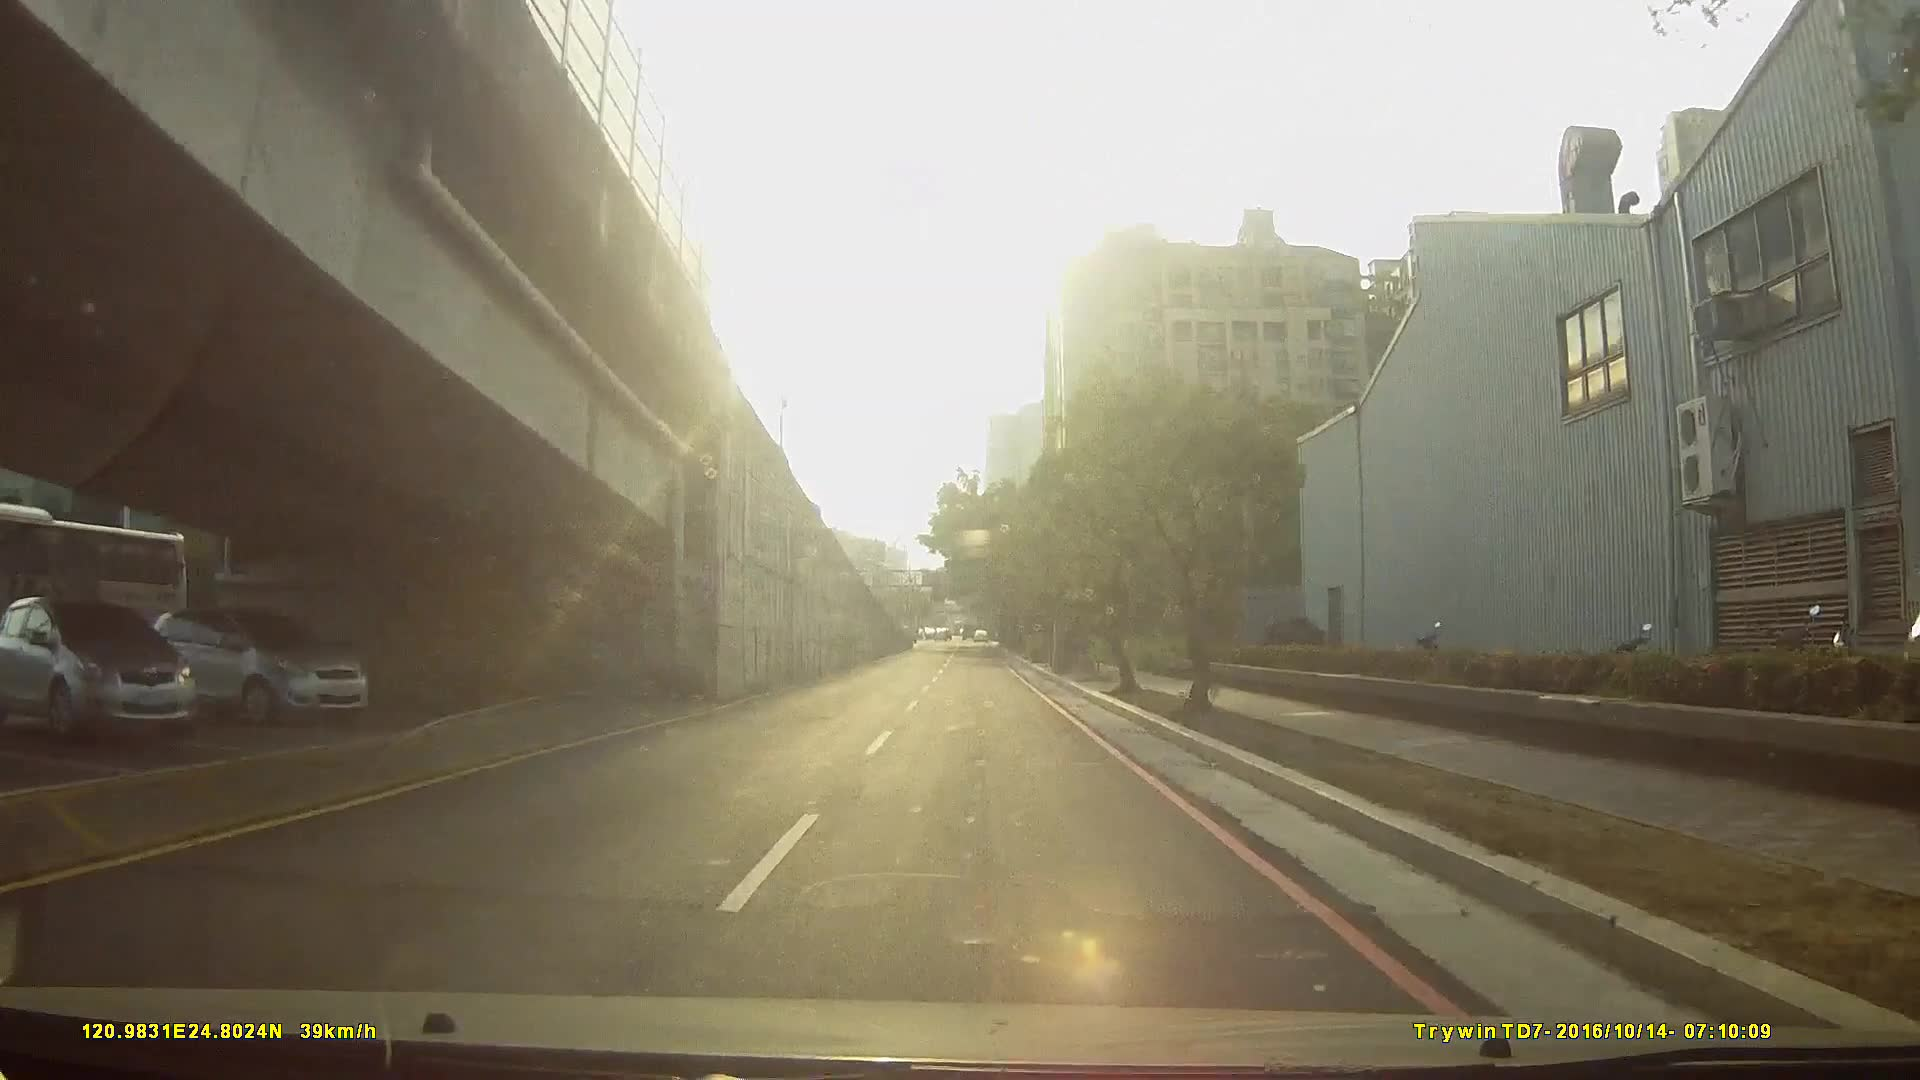vehicle: (1, 502, 198, 698), (128, 604, 382, 729), (1, 592, 196, 742)
